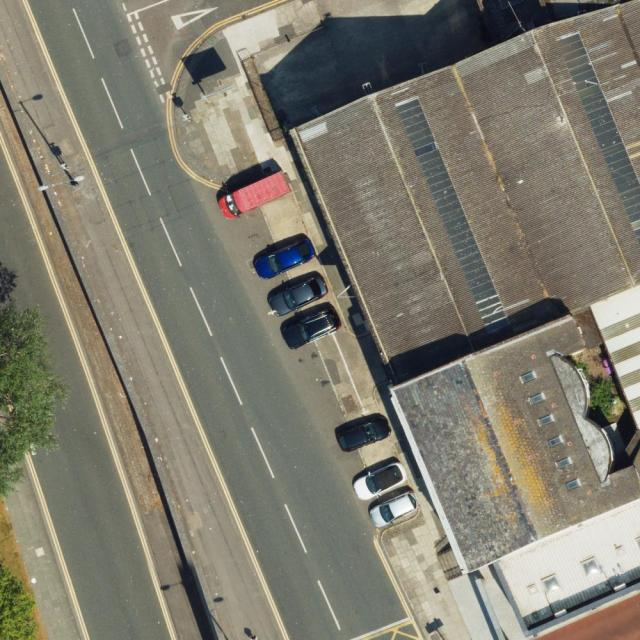roof: (289, 0, 640, 640)
skylight: (393, 97, 514, 334), (552, 27, 640, 244), (540, 573, 563, 594), (580, 556, 601, 578), (525, 390, 547, 407), (519, 370, 539, 388), (563, 476, 584, 493), (551, 454, 573, 470), (546, 435, 566, 451), (536, 412, 555, 427)
